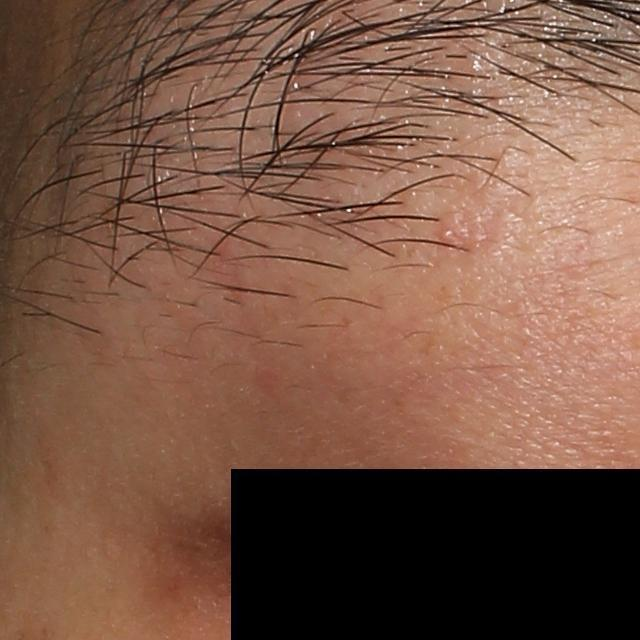papule: (436, 221, 460, 246)
